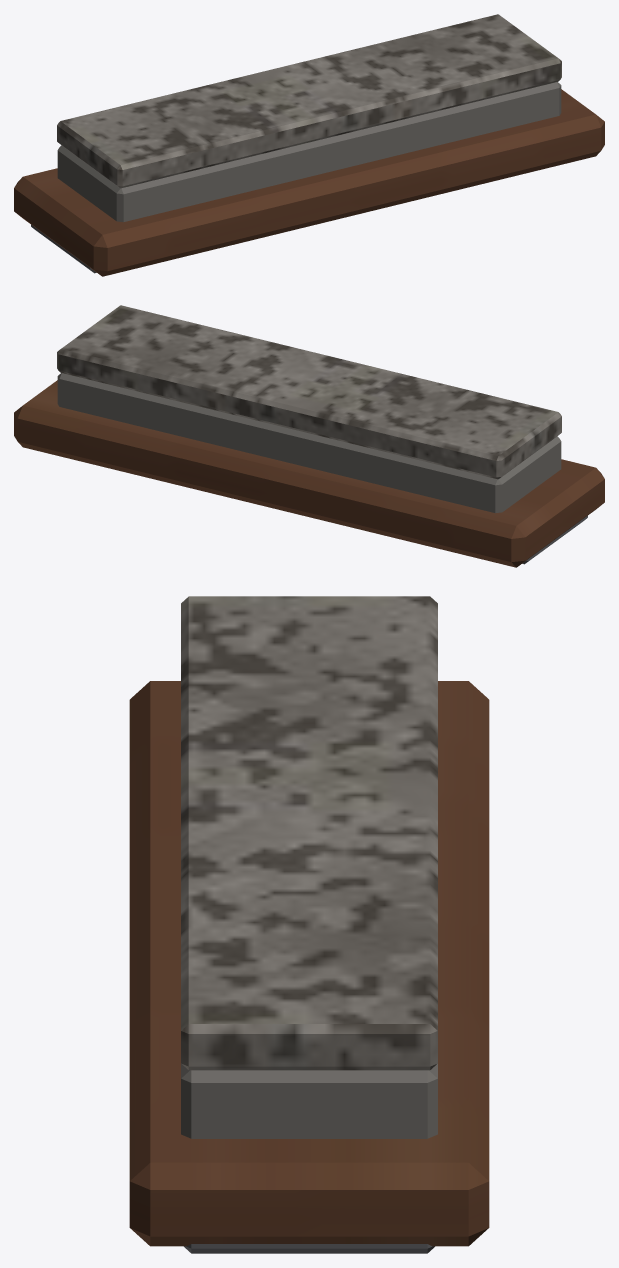
Rendered from pedra_amolar.glb.
3 renders of one model, top to bottom at view 1: azimuth 30°, elevation 25°; view 2: azimuth 150°, elevation 25°; view 3: azimuth 270°, elevation 25°, orthographic. The views are drawn at different scales.
Parts seen in each view (by area): view 1: pedra_amolar_pedra, pedra_amolar_madeira_escura, pedra_amolar_esmeril; view 2: pedra_amolar_pedra, pedra_amolar_madeira_escura, pedra_amolar_esmeril; view 3: pedra_amolar_pedra, pedra_amolar_madeira_escura, pedra_amolar_esmeril, pedra_amolar_borracha.
Boxes of the visible parts, <box> form: pedra_amolar_pedra: <box>57,14,561,188</box>; pedra_amolar_madeira_escura: <box>14,89,604,276</box>; pedra_amolar_esmeril: <box>57,82,561,222</box>; pedra_amolar_pedra: <box>57,305,561,479</box>; pedra_amolar_madeira_escura: <box>14,380,604,567</box>; pedra_amolar_esmeril: <box>57,373,561,513</box>; pedra_amolar_pedra: <box>181,596,437,1070</box>; pedra_amolar_madeira_escura: <box>129,681,489,1246</box>; pedra_amolar_esmeril: <box>181,1063,437,1138</box>; pedra_amolar_borracha: <box>184,1244,434,1253</box>.
Size of the model in its own units: 0.23 by 0.044 by 0.07.
Materials: 4 (2 with a texture image).
